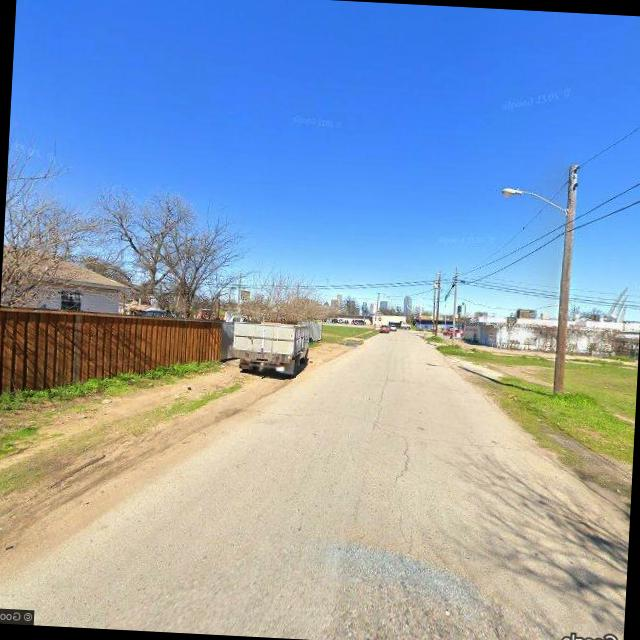pothole: (366, 367, 394, 442), (394, 433, 418, 485)
